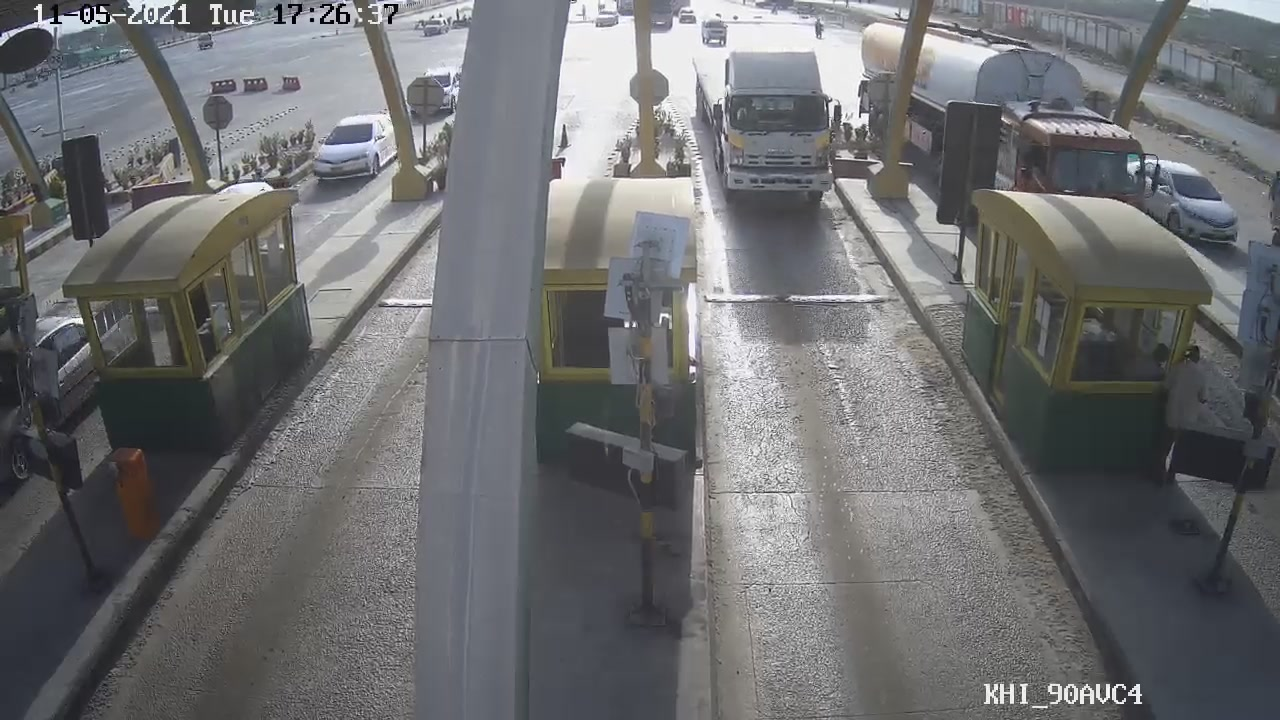F6: (688, 42, 851, 205)
